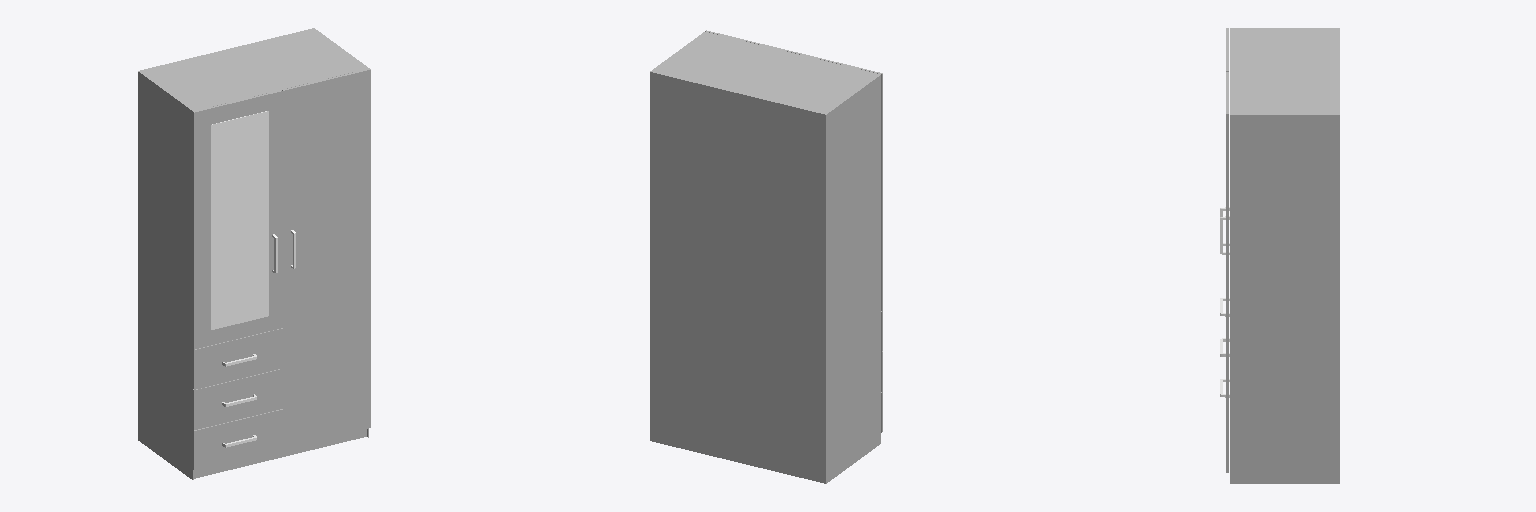
Rendered from VINDERUP.obj.
3 renders of one model, left to right at view 1: azimuth 30°, elevation 25°; view 2: azimuth 150°, elevation 25°; view 3: azimuth 270°, elevation 25°, orthographic.
Visible parts, largest first — view 1: Куб.010_Куб.017, Куб_Куб.001; view 2: Куб.010_Куб.017; view 3: Куб.010_Куб.017.
Boxes of the visible parts, box(x1,y1,x2,y2) form: Куб.010_Куб.017: box(138, 28, 370, 479); Куб_Куб.001: box(211, 111, 268, 329); Куб.010_Куб.017: box(650, 30, 882, 483); Куб.010_Куб.017: box(1220, 28, 1339, 483).
Size of the model in its own units: 2 by 4 by 1.18.